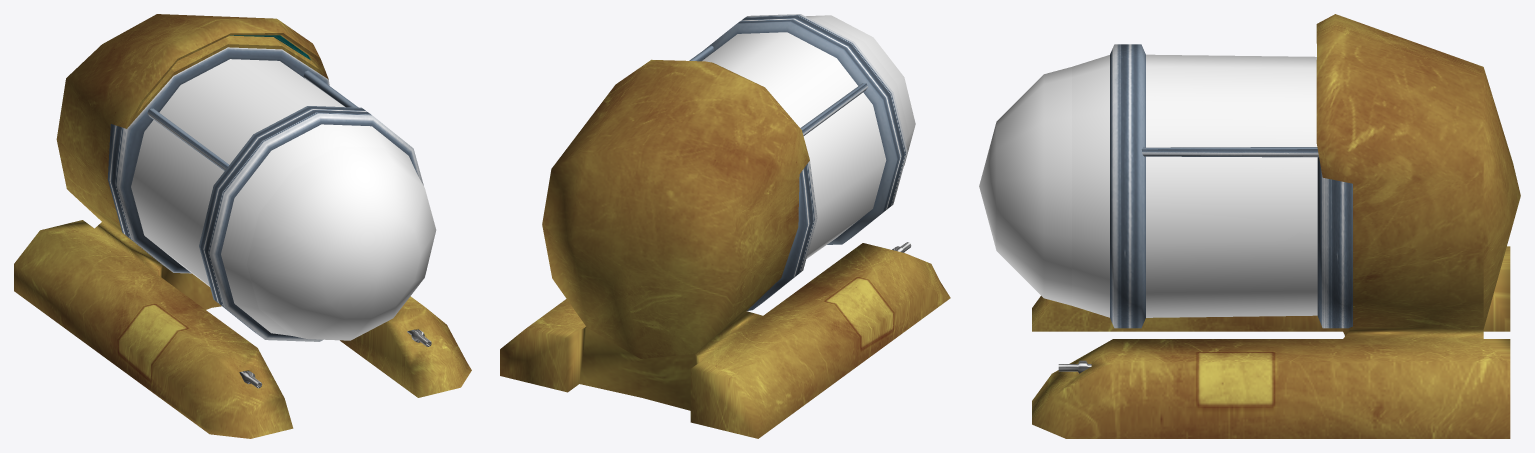
The model's file is FirstSubmarine.fbx.
3 views of the same model, side by side, from view 1: azimuth 30°, elevation 25°; view 2: azimuth 150°, elevation 25°; view 3: azimuth 270°, elevation 25° (orthographic). The views are drawn at different scales.
Visible parts, largest first — view 1: polySurface9, frontGlass, backGlass; view 2: polySurface9, backGlass, frontGlass; view 3: polySurface9, backGlass, frontGlass.
Boxes of the visible parts, box(x1,y1,x2,y2) form: polySurface9: box(14, 14, 471, 438); frontGlass: box(221, 124, 436, 340); backGlass: box(131, 59, 345, 286); polySurface9: box(500, 14, 950, 438); backGlass: box(702, 32, 886, 258); frontGlass: box(806, 15, 915, 165); polySurface9: box(1032, 14, 1520, 438); backGlass: box(1146, 54, 1317, 317); frontGlass: box(979, 55, 1109, 317).
Size of the model in its own units: 19 by 20.45 by 29.93.
